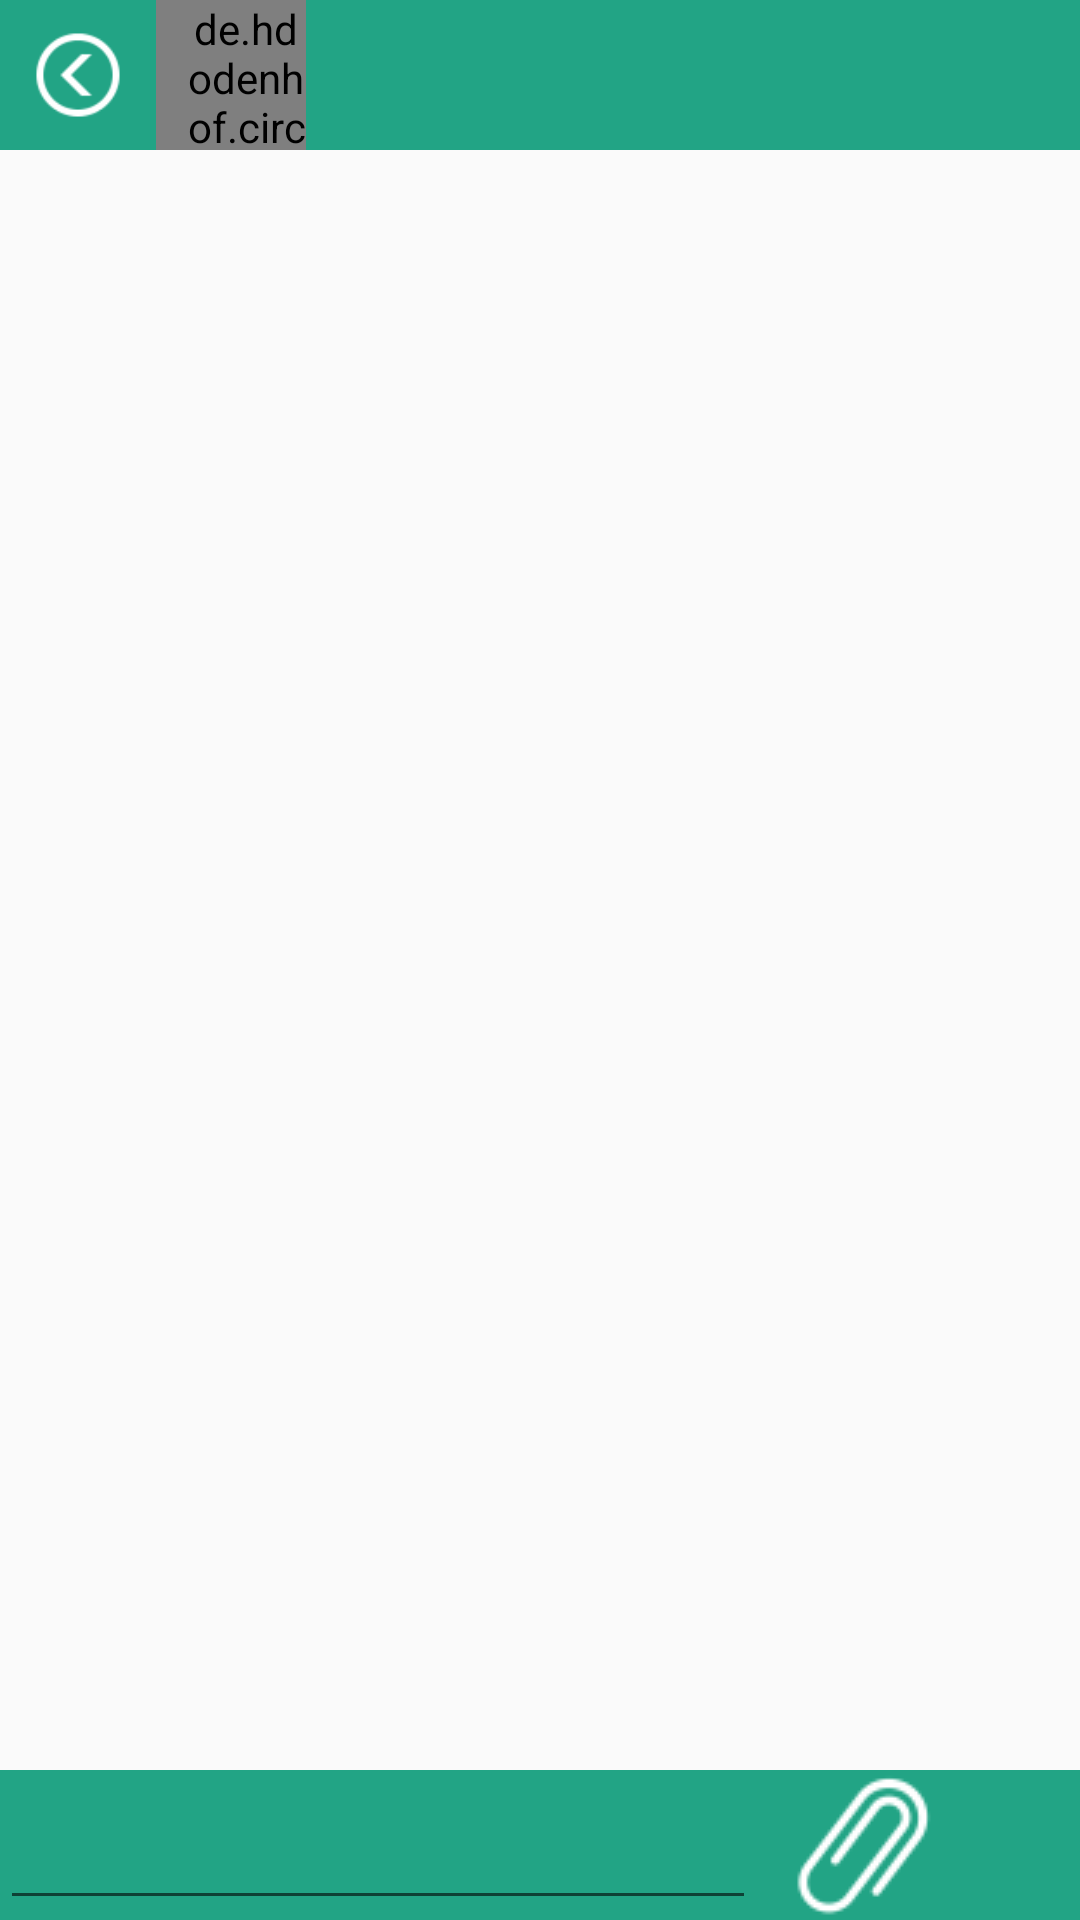

Where to tap for icons on this 1080 × 1920 app screen, as (x=x, y=y):
attachment: (x=863, y=1846)
back: (x=78, y=75)
